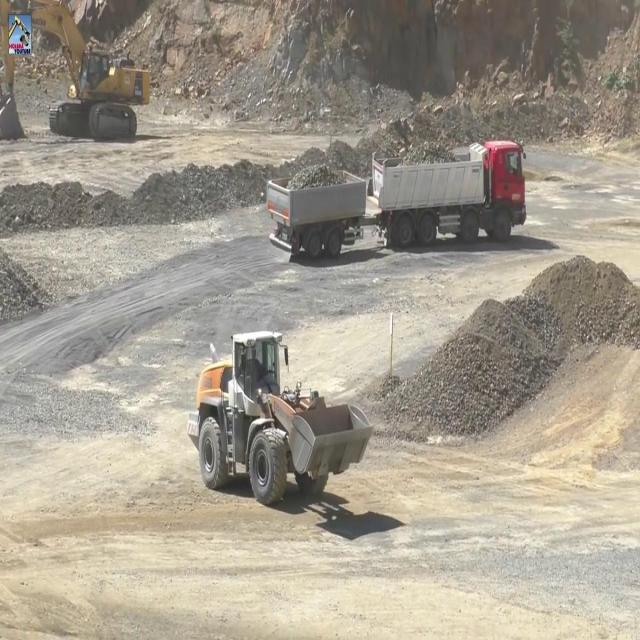buldozerpayloadergrader: (187, 327, 375, 507)
dump_truck: (264, 136, 528, 261)
excavator: (1, 0, 150, 141)
